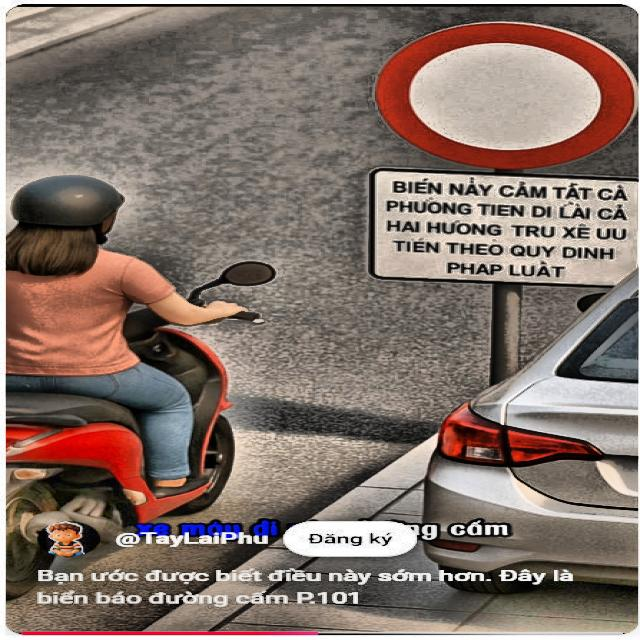Bien_bao_duong_cam: (372, 19, 634, 171)
